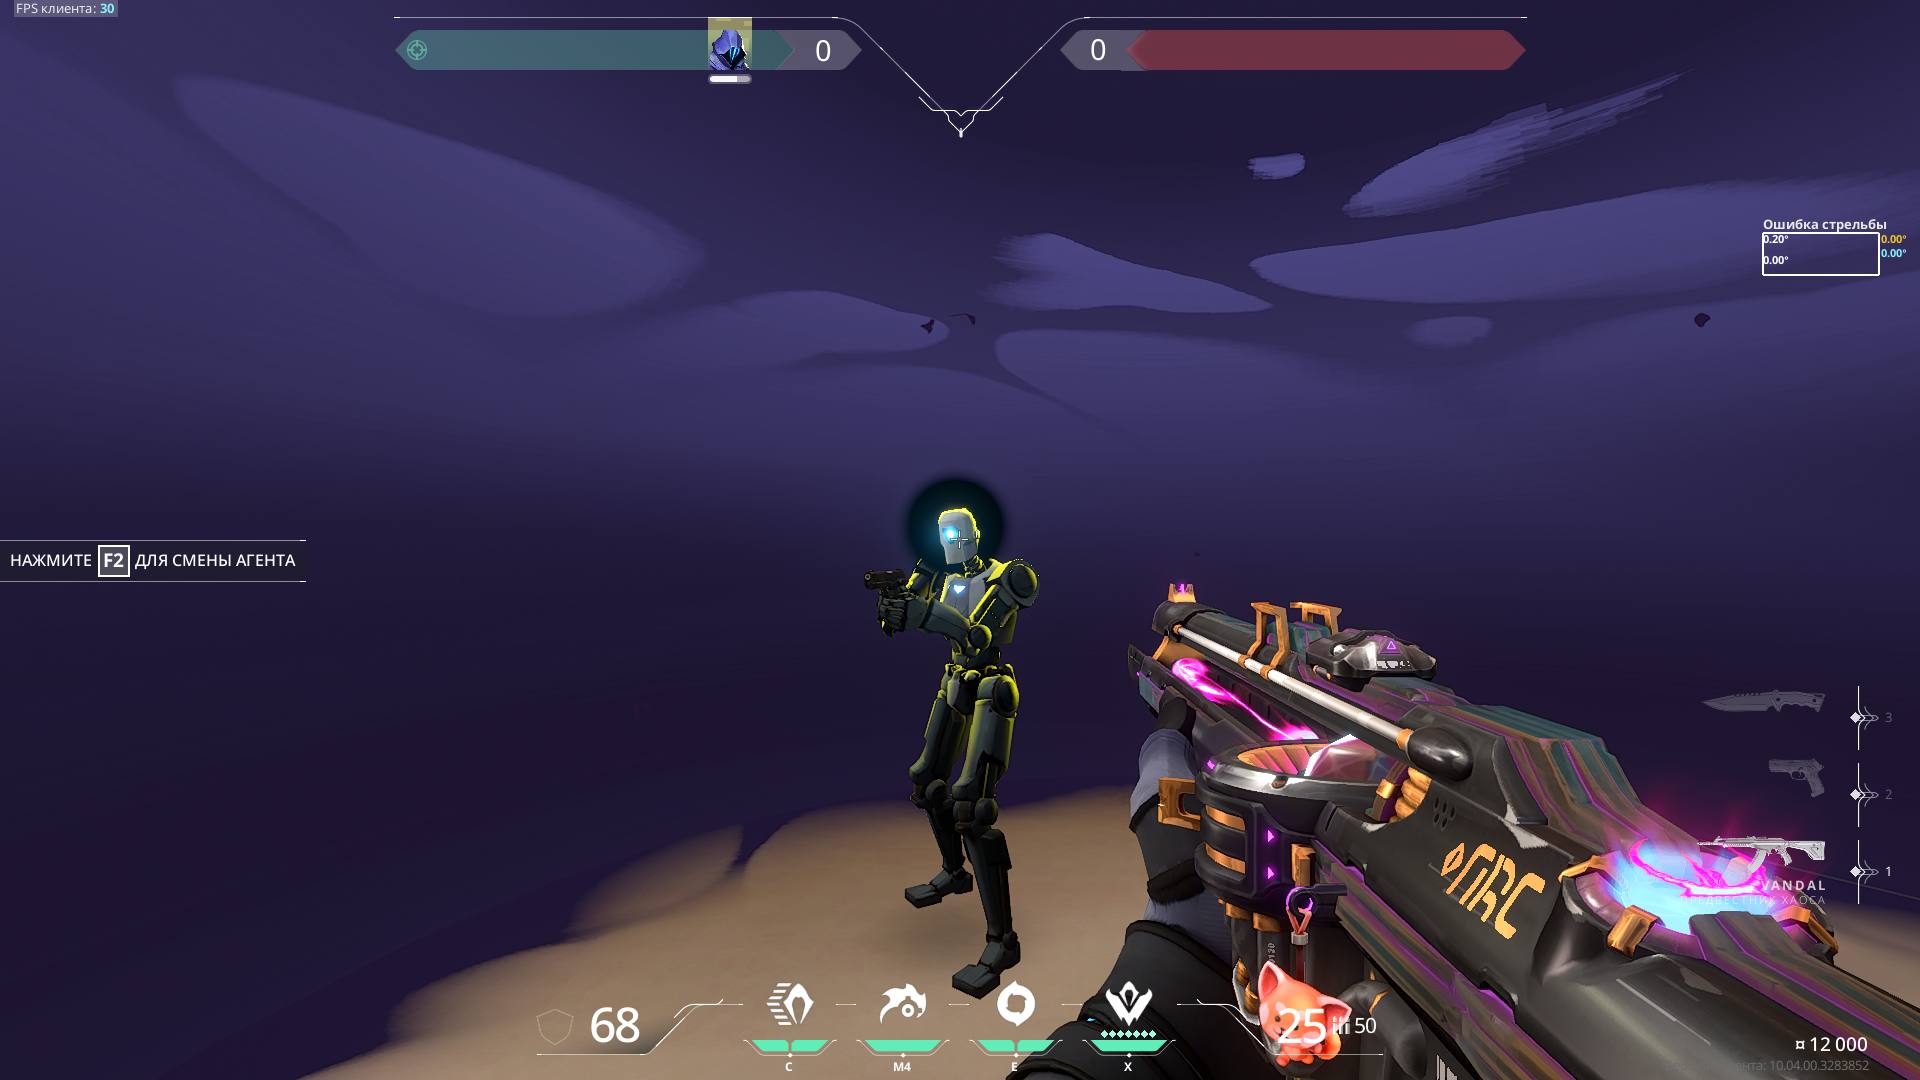head: (939, 508, 980, 564)
